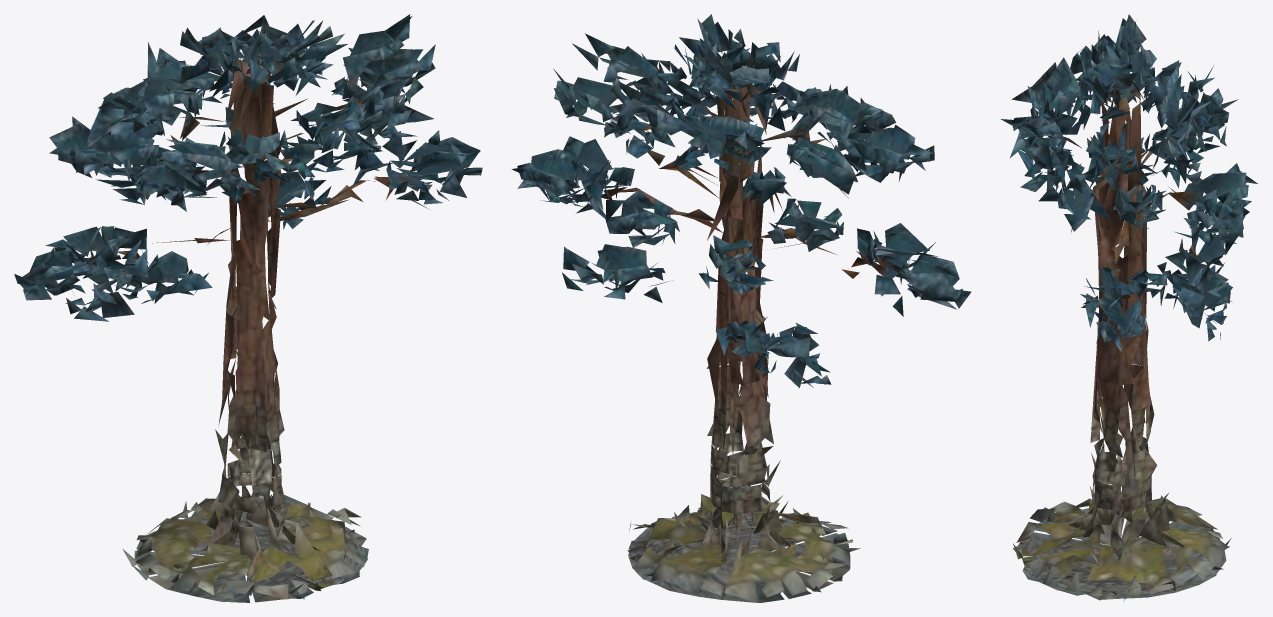
Rendered from tr_pine_a_far.glb.
3 views of the same model, side by side, from view 1: azimuth 30°, elevation 25°; view 2: azimuth 150°, elevation 25°; view 3: azimuth 270°, elevation 25° (orthographic). The views are drawn at different scales.
Parts seen in each view (by area): view 1: tr_pine_a; view 2: tr_pine_a; view 3: tr_pine_a.
Boxes of the visible parts, <box> form: tr_pine_a: <box>14,14,482,602</box>; tr_pine_a: <box>511,14,971,602</box>; tr_pine_a: <box>1001,14,1257,601</box>.
Bounding box in the file's own units: 14.58 × 16.24 × 7.39.
1 material, 1 textured.
